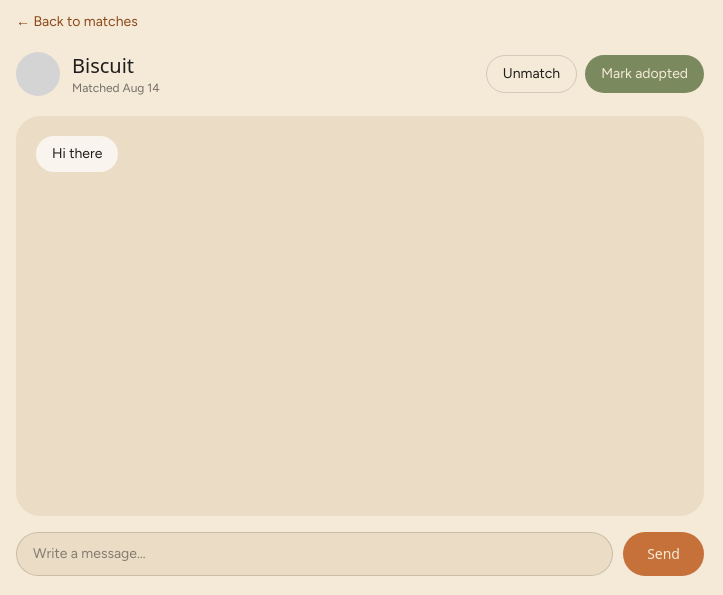
Scenario: Chat › loads and shows messages, and sends a new one
Expected: the text "Hi there" is shown, [36,136,118,172]
Type "hey" into the field labelled "message" at (315, 554), box [16,532,613,576]
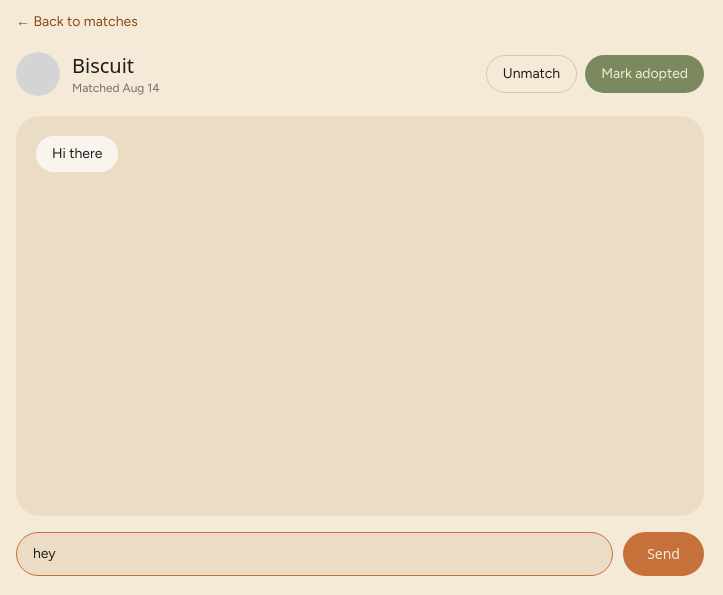
Click the button "Send" at (664, 554), box [623,532,704,576]
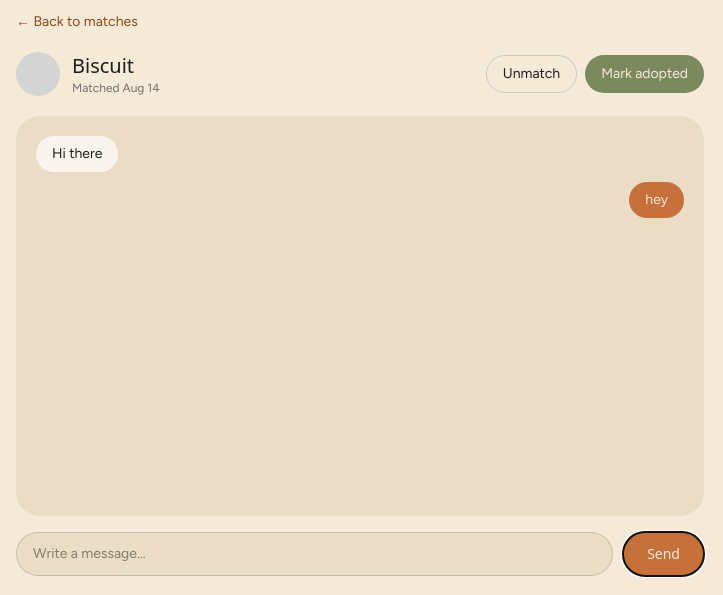
Now the text "hey" is shown, box [629,182,684,218]
